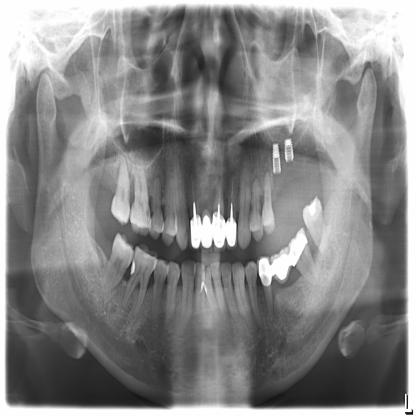Bicon: (270, 140, 282, 178), (285, 135, 296, 165)
